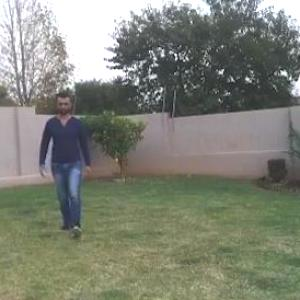follow: (48, 95, 92, 232)
